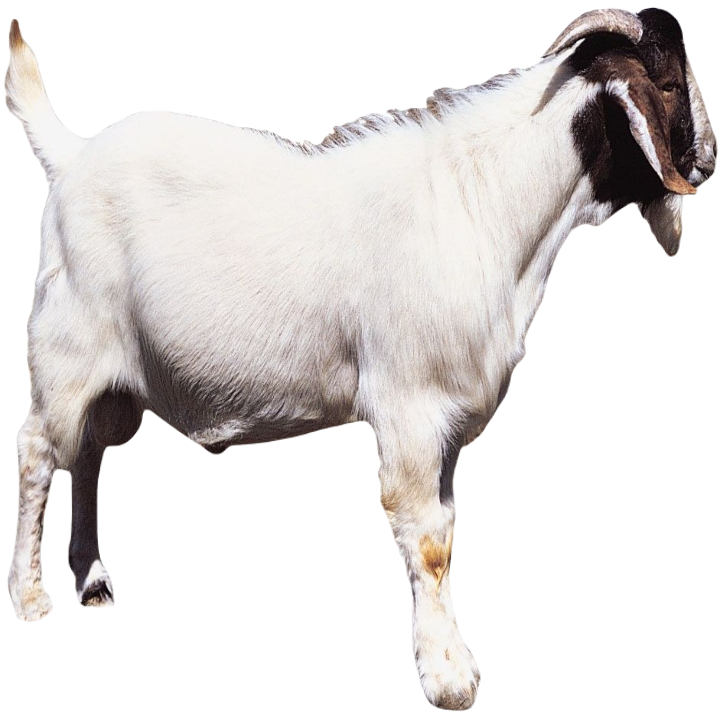Goat: (6, 0, 719, 712)
